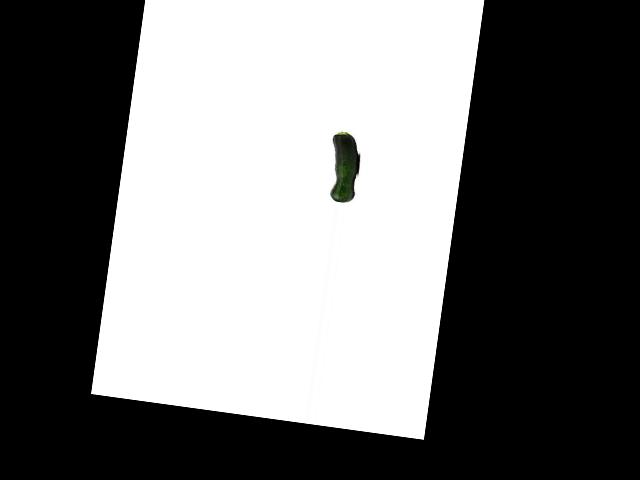cucumber: (324, 130, 363, 203)
